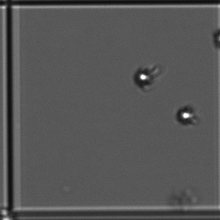Living Cell: (136, 70, 151, 84), (178, 108, 192, 122)
